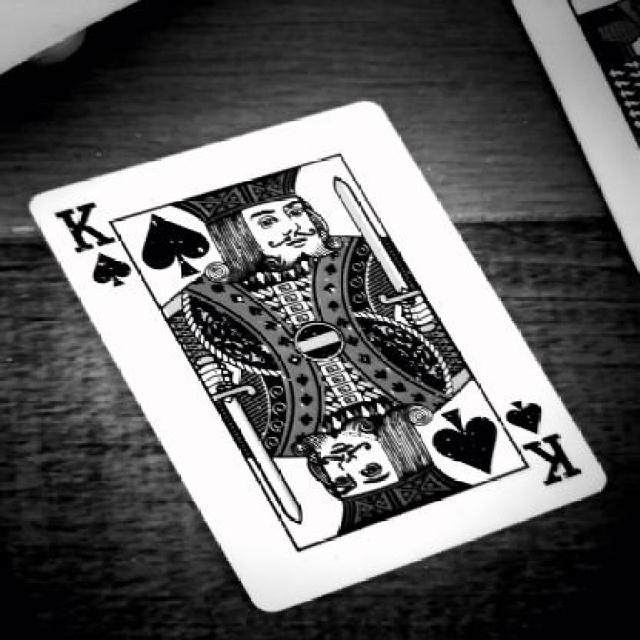KS: (487, 392, 598, 498), (52, 197, 133, 305)
